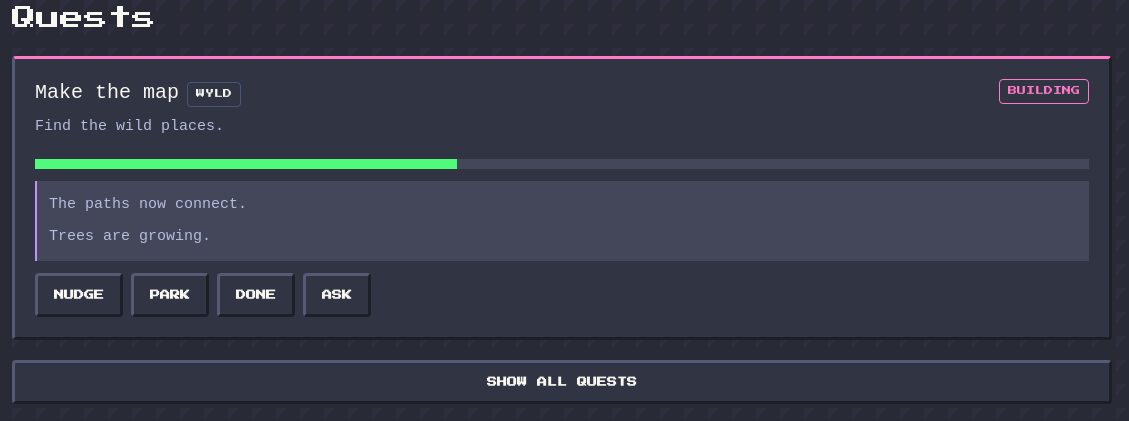
Test: Quests › shows one deep-linked quest and clears the quest parameter
Expected: the heading "Make the map" is shown, [35, 79, 179, 106]
Click the button "Show all quests" at coordinates (562, 382), box [12, 360, 1112, 404]
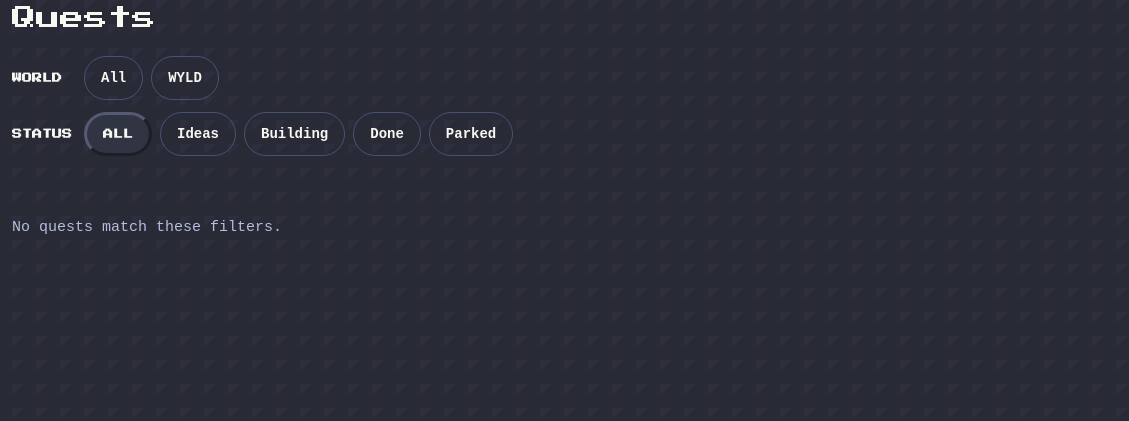
Expected: the element named "World filter" is shown, [12, 56, 219, 100]
Expected: the text "No quests match these filters." is shown, [12, 219, 282, 236]
